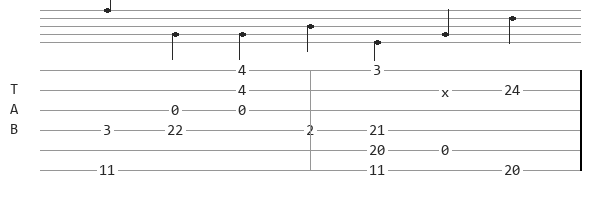0: (171, 103, 183, 117), (238, 103, 250, 117), (441, 143, 453, 157)
11: (99, 163, 119, 177), (369, 163, 389, 177)
2: (306, 123, 318, 137)
20: (369, 143, 389, 157), (504, 163, 524, 177)
21: (369, 123, 389, 137)
22: (167, 123, 187, 137)
24: (504, 83, 524, 97)
3: (103, 123, 115, 137), (373, 63, 385, 77)
4: (238, 83, 250, 97), (238, 63, 250, 77)
x: (441, 85, 453, 96)
